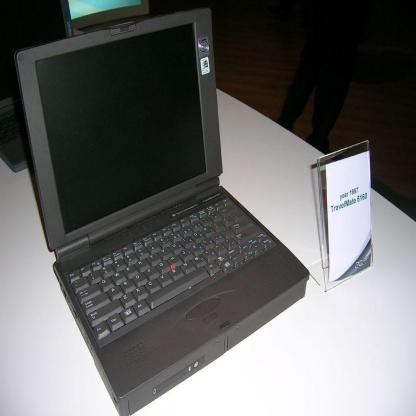board: (14, 4, 310, 416)
